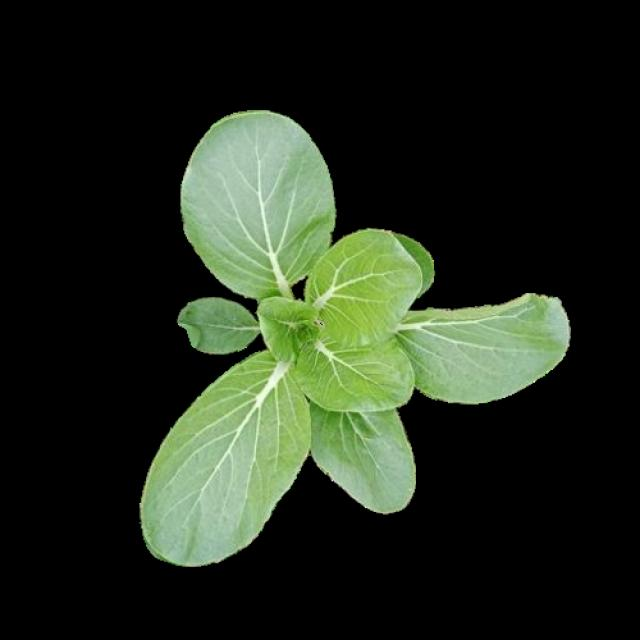healthy: (137, 108, 571, 560)
not-mature: (140, 110, 574, 562)
